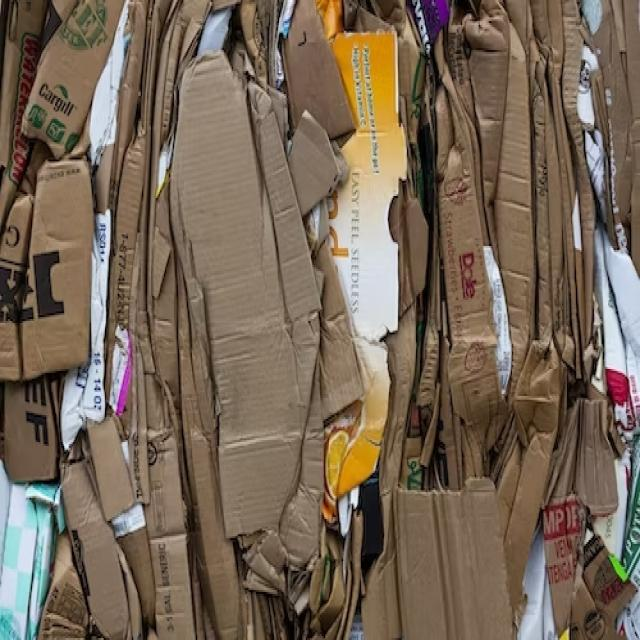Papel: (165, 47, 314, 538), (318, 11, 410, 514), (427, 70, 532, 444), (1, 138, 99, 402), (385, 463, 519, 640), (51, 440, 138, 640), (533, 487, 633, 640)
